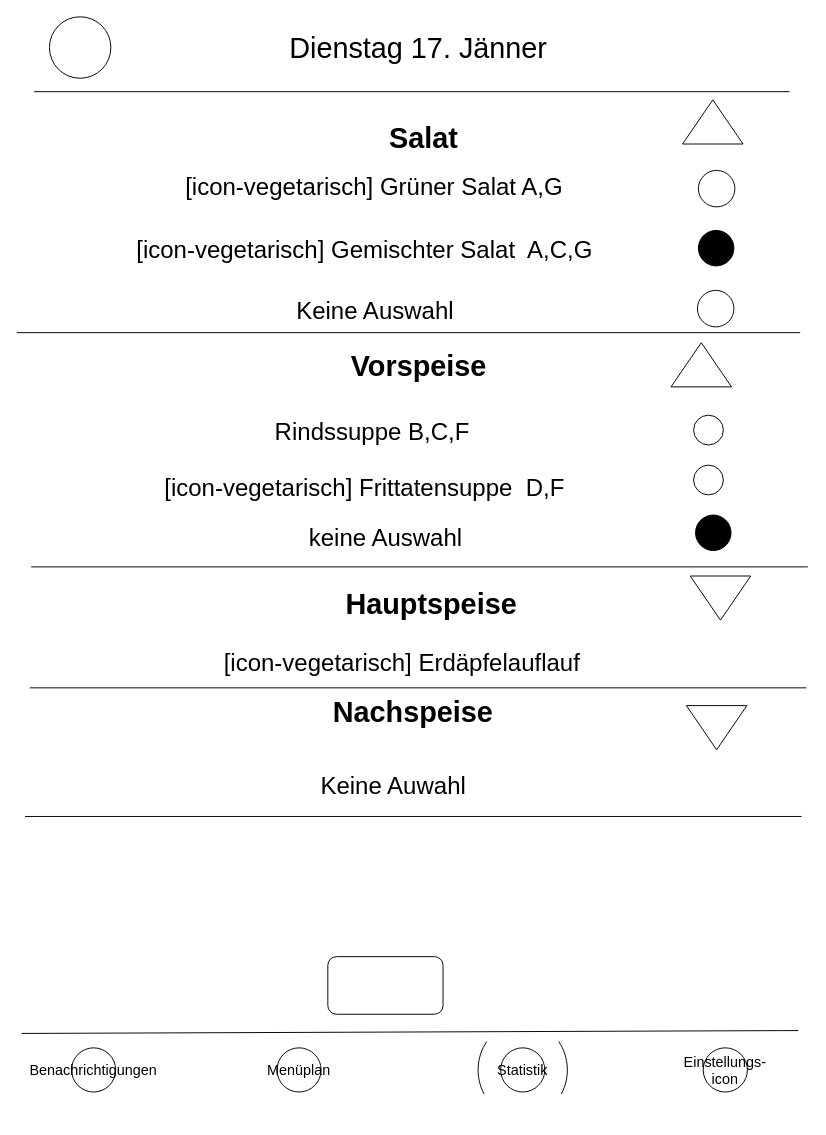
Image size: 826x1135. Some labels were removed from this diagram. The centre of each missing label's shape, as x and y in pixels:
"Speichern" goes at (385,985).
"Zurück" goes at (79,47).
